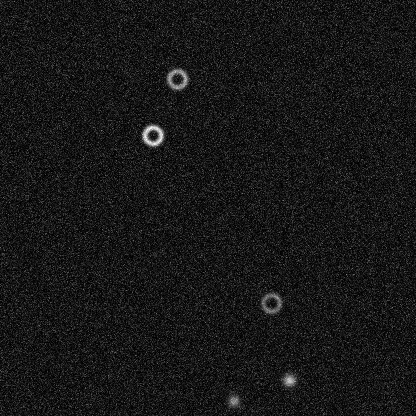Ring: (259, 291, 283, 315), (140, 123, 164, 147), (165, 66, 189, 90)
Spot: (281, 372, 297, 388), (225, 392, 241, 408)
